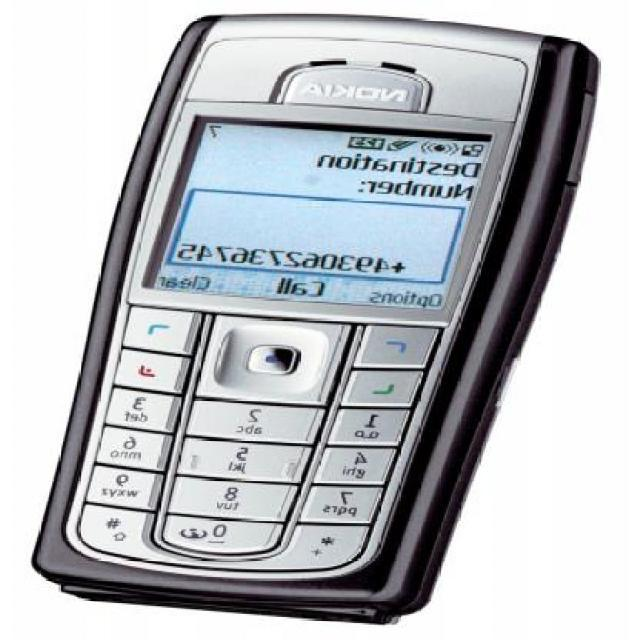phone: (43, 12, 606, 640)
